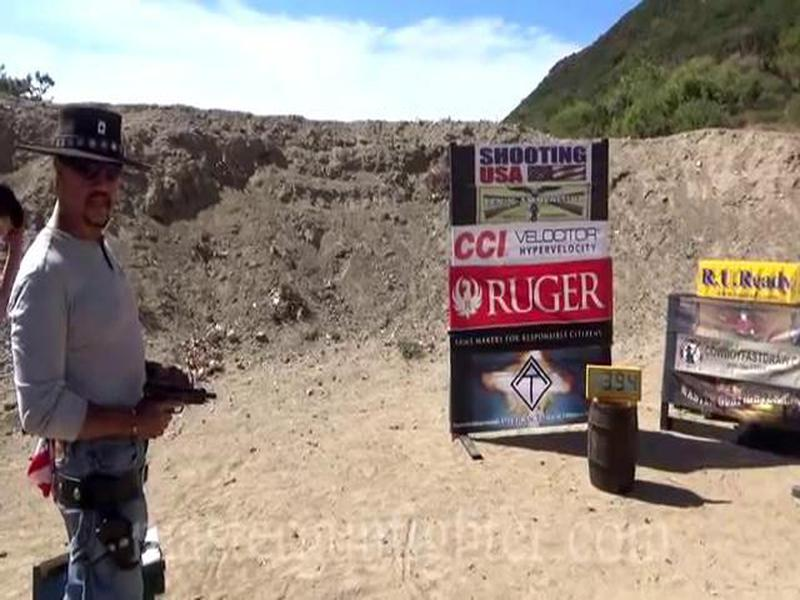Pistola: (135, 375, 218, 444)
